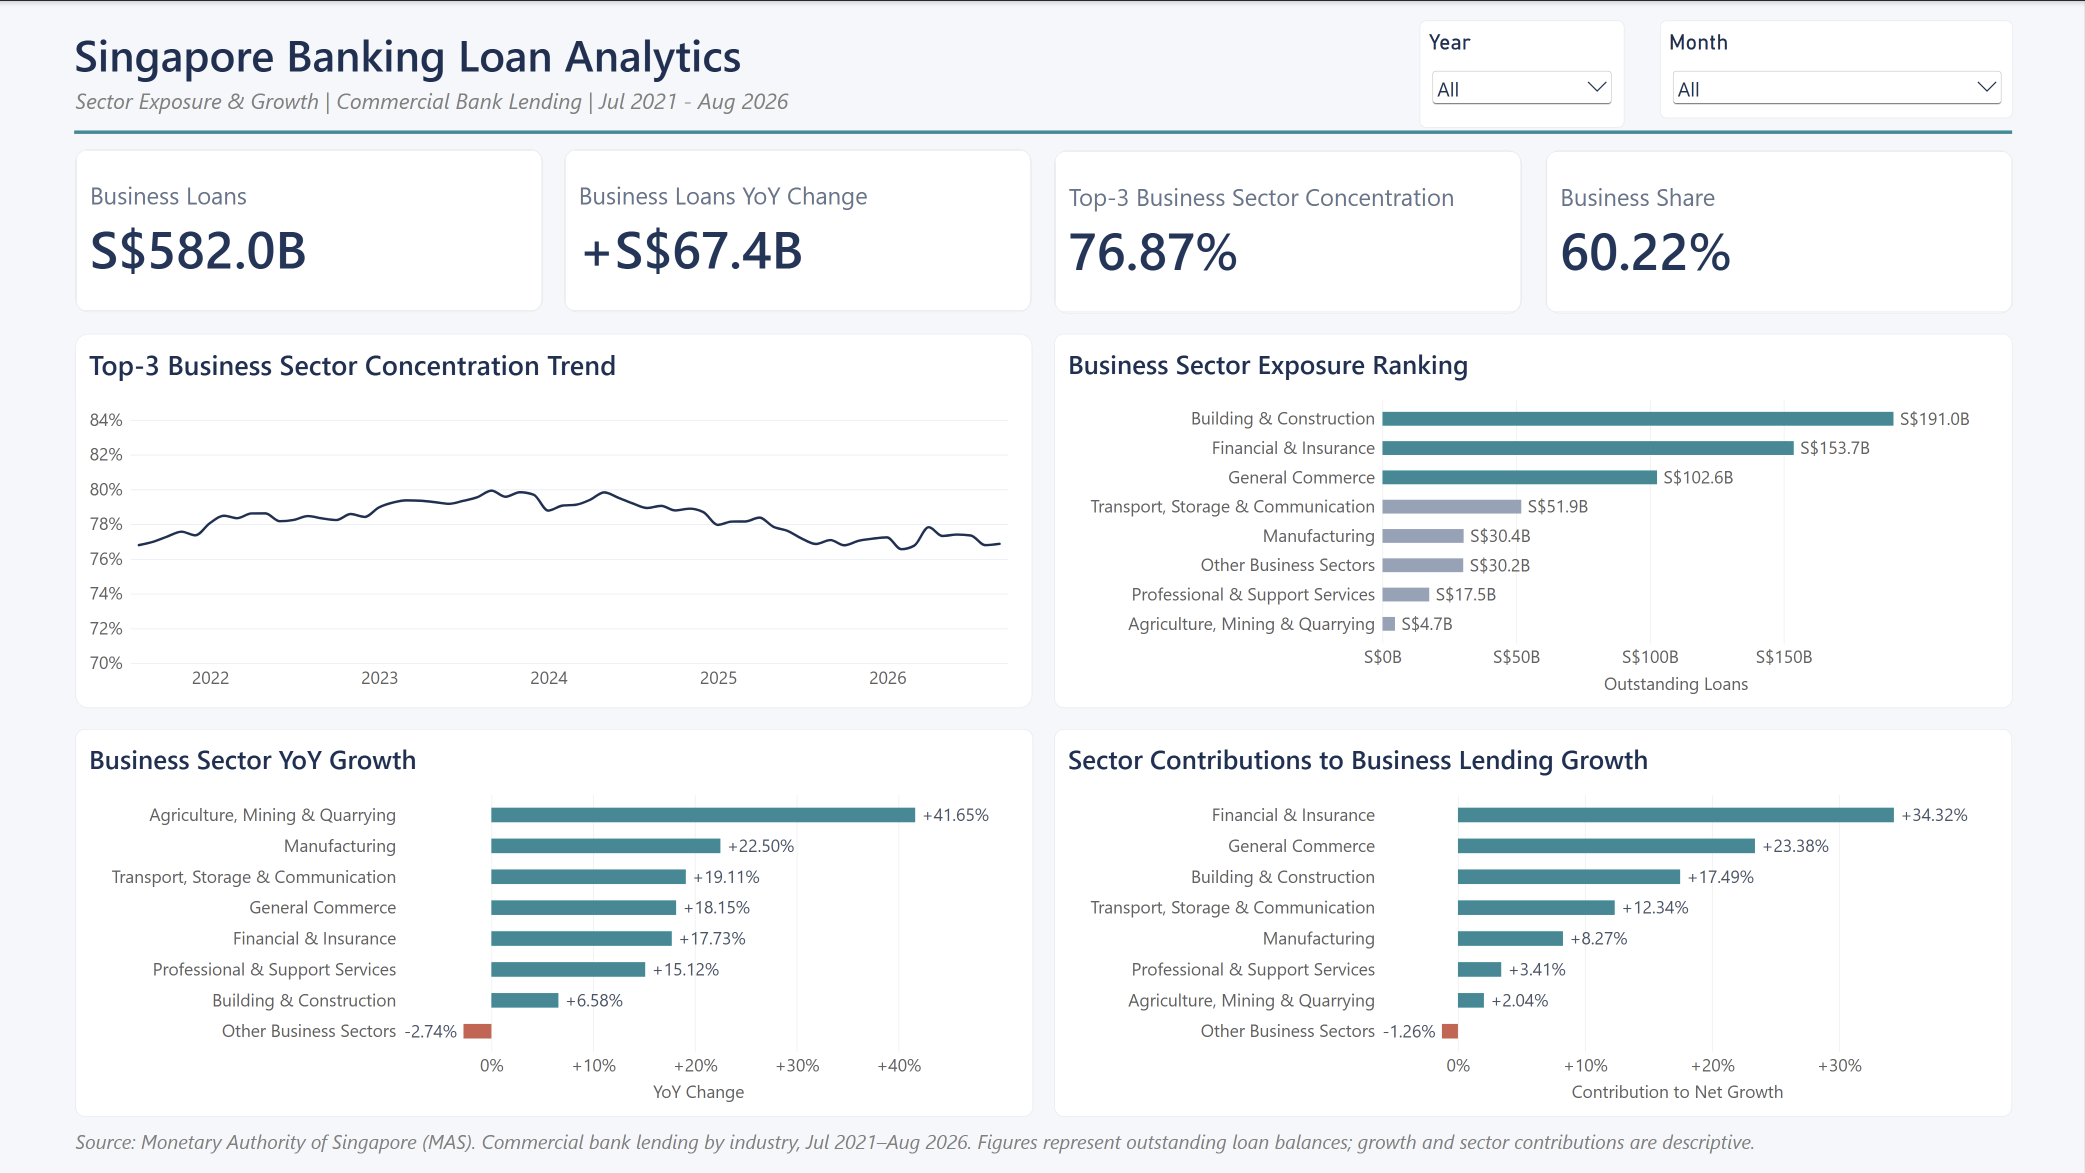

The page's visual inventory and layout, read from the dashboard file:
{"tool":"powerbi","page":{"name":"02 Sector Exposure & Growth","canvas":[2560,1440],"ordinal":1},"visuals":[{"type":"textbox","box":[91.2,66.7,1898.3,84.2],"z":0},{"type":"textbox","box":[92,150,1850,55],"z":1000},{"type":"cardVisual","fields":{"Data":["DimCategory.Business Loans (S$B)"]},"box":[91.2,220,574,200],"z":2000},{"type":"cardVisual","fields":{"Data":["DimCategory.Business Loans YoY Change (S$B)"]},"box":[692.3,220,574,200],"z":3000},{"type":"cardVisual","fields":{"Data":["FactLoans.Business Share (%)"]},"box":[1894.4,220,574,200],"z":4000},{"type":"cardVisual","fields":{"Data":["FactLoans.Top-3 Business Sector Concentration (%)"]},"box":[1295.1,220,574,200],"z":5000},{"type":"slicer","title":"Year","fields":{"Values":["DimMonth.year"]},"box":[1737,75.1,252.2,130.6],"z":6000},{"type":"slicer","title":"Reporting Month","fields":{"Values":["DimMonth.year_month"]},"box":[2037.5,75.1,432.9,130.6],"z":7000},{"type":"lineChart","title":"Top-3 Business Sector Concentration Trend","fields":{"Category":["DimMonth.period_end"],"Y":["FactLoans.Top-3 Business Sector Concentration (%)"]},"box":[90,436,1176,460],"z":8000},{"type":"clusteredBarChart","title":"Business Sector Exposure Ranking","fields":{"Category":["DimCategory.display_name"],"Y":["DimCategory.Business Sector Balance (S$B)"]},"box":[1296,436,1176,460],"z":9000},{"type":"clusteredBarChart","title":"Business Sector YoY Growth","fields":{"Category":["DimCategory.display_name"],"Y":["FactLoans.Business Sector YoY Growth (%)"]},"box":[90,922,1176,476],"z":10000},{"type":"clusteredBarChart","title":"Sector Contributions to Business Lending Growth","fields":{"Category":["DimCategory.display_name"],"Y":["FactLoans.Business Sector Contribution to Business Growth (%)"]},"box":[1296,922,1176,476],"z":10001}]}

Visuals, with their boxes in screenshot pixels (x1, y1, x2, y2), scaled from the page's 2560x1440 canvas onto the 2085x1173 screenshot:
textbox: crop(74, 54, 1620, 123)
textbox: crop(75, 122, 1582, 167)
cardVisual - DimCategory.Business Loans (S$B): crop(74, 179, 542, 342)
cardVisual - DimCategory.Business Loans YoY Change (S$B): crop(564, 179, 1031, 342)
cardVisual - FactLoans.Business Share (%): crop(1543, 179, 2010, 342)
cardVisual - FactLoans.Top-3 Business Sector Concentration (%): crop(1055, 179, 1522, 342)
"Year" slicer: crop(1415, 61, 1620, 168)
"Reporting Month" slicer: crop(1659, 61, 2012, 168)
"Top-3 Business Sector Concentration Trend" lineChart: crop(73, 355, 1031, 730)
"Business Sector Exposure Ranking" clusteredBarChart: crop(1056, 355, 2013, 730)
"Business Sector YoY Growth" clusteredBarChart: crop(73, 751, 1031, 1139)
"Sector Contributions to Business Lending Growth" clusteredBarChart: crop(1056, 751, 2013, 1139)
